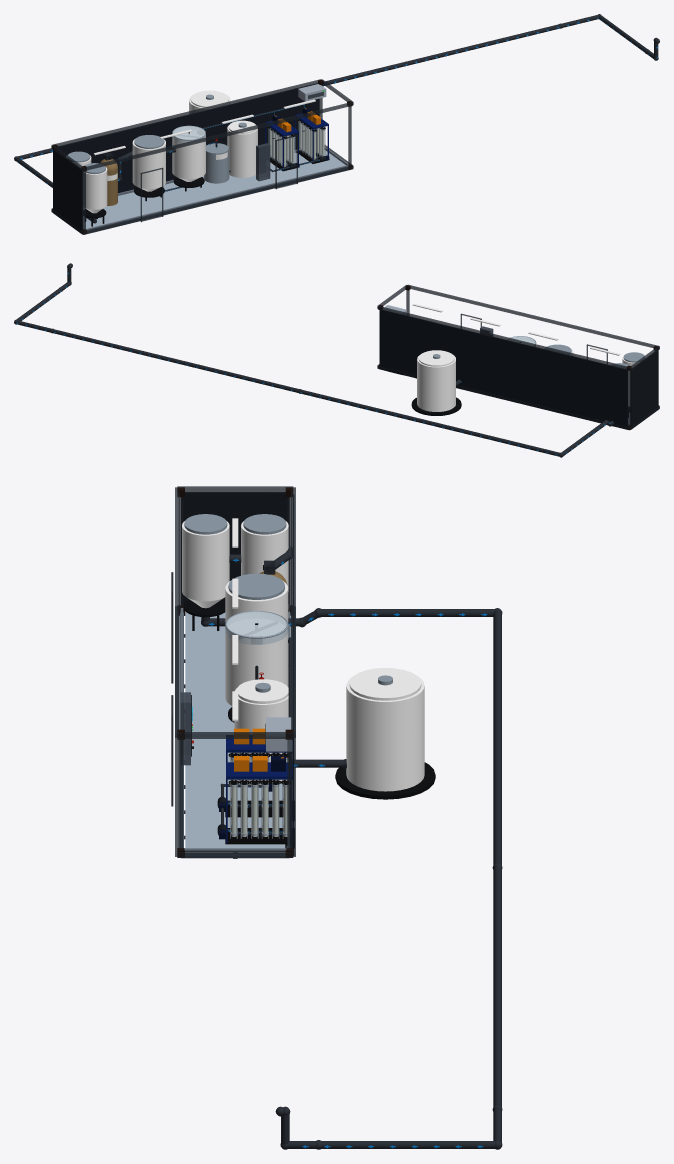
The model's file is OilTrap EP50 System 3D Asset NEW.obj.
3 views of the same model, one above another, from view 1: azimuth 30°, elevation 25°; view 2: azimuth 150°, elevation 25°; view 3: azimuth 270°, elevation 25° (orthographic). The views are drawn at different scales.
Parts seen in each view (by area): view 1: object 1; view 2: object 1; view 3: object 1.
Part boxes in pixels (x1,y1,x2,y2): object 1: (14,14,659,234); object 1: (14,263,659,457); object 1: (171,486,502,1149).
Size of the model in its own units: 27.4 by 2.96 by 6.94.
